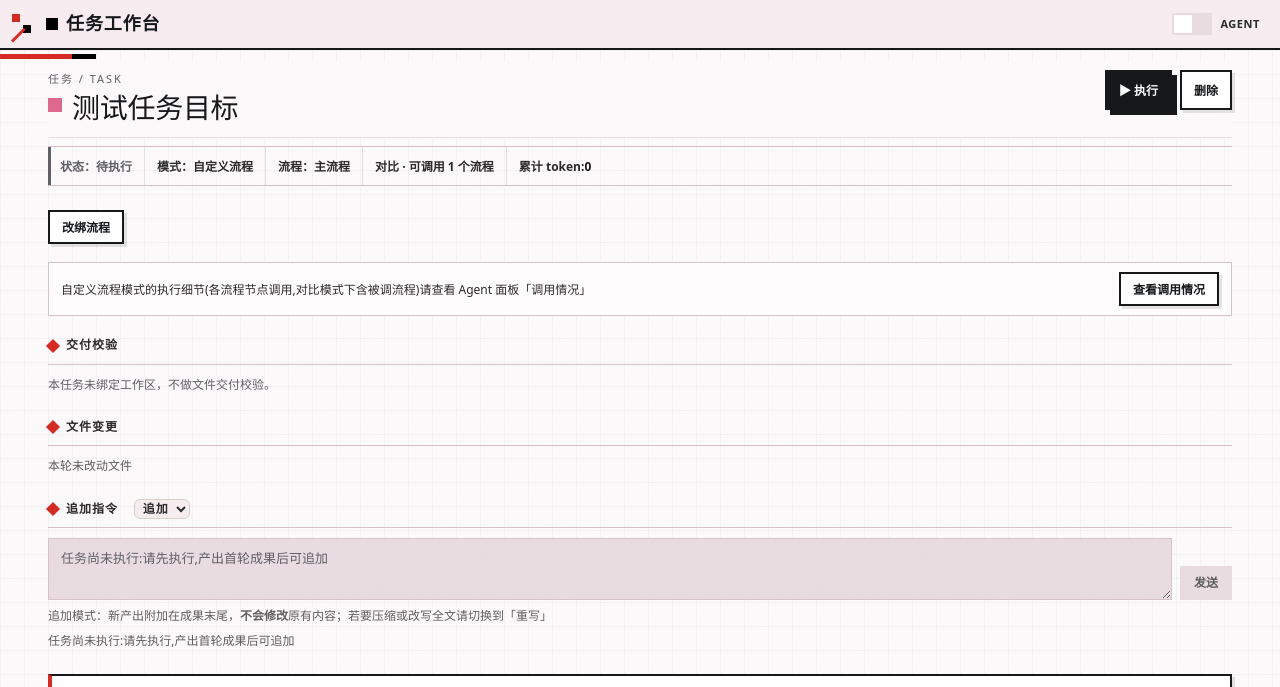
TaskBoard 改绑流程入选区(B 批 B3) › 后端 400:原文(点名原因)透出,入选区保持展开可重试
This screenshot has width=1280, height=687.
Click the button "改绑流程". click: (86,228)
box: [48,210,124,244]
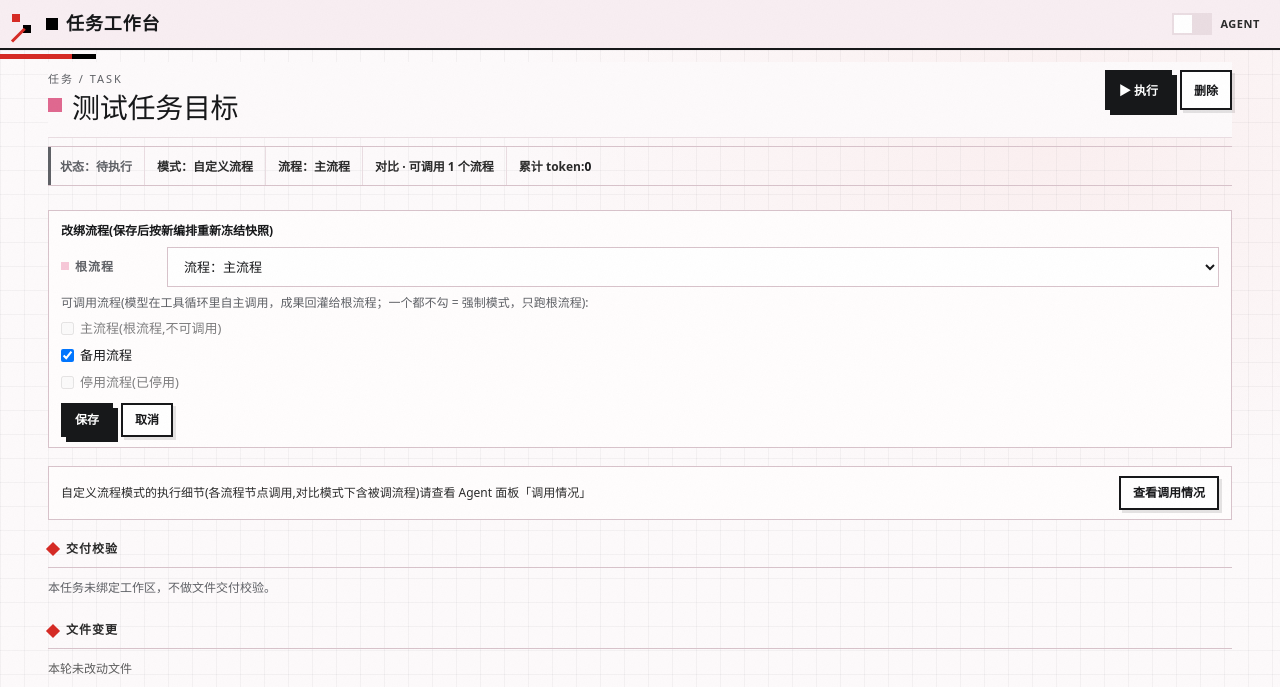
Click the button "保存". click: (87,420)
box: [61,403,113,437]
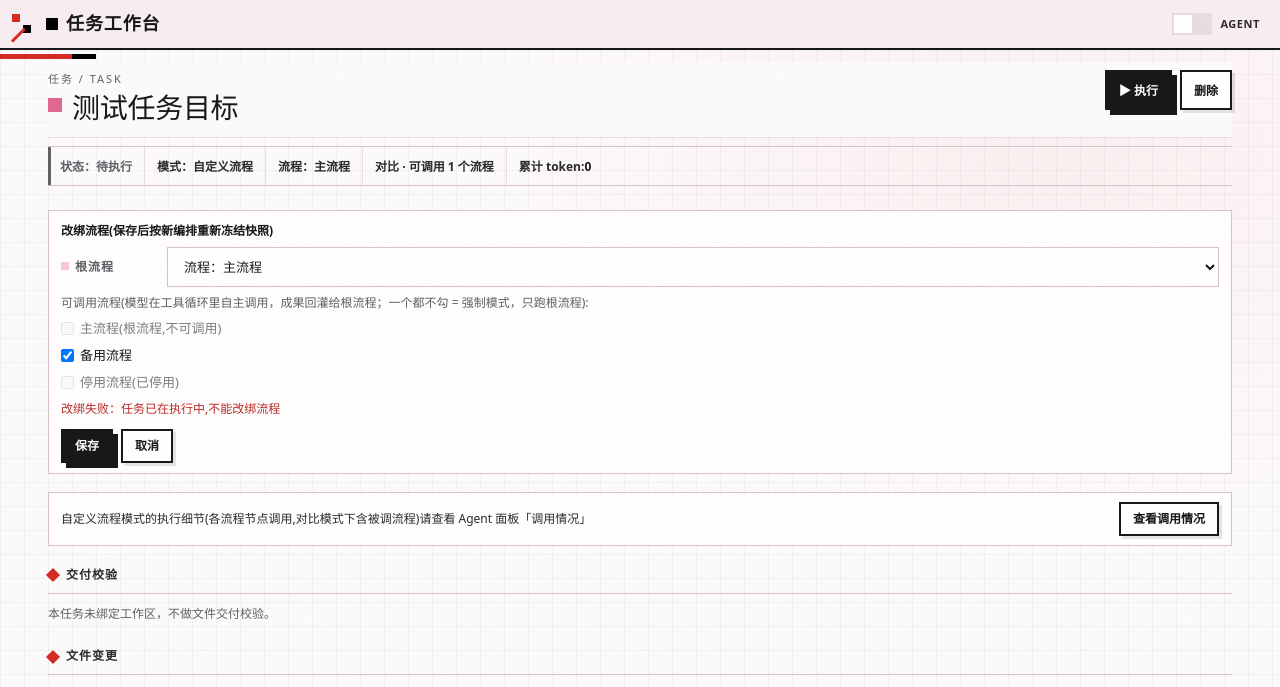
Expected: the element with class "sv-task-flow-bind-panel" is shown, [48,210,1232,474]
Expected: the text with class "sv-task-flow-bind-err" shows "任务已在执行中,不能改绑流程", [61,400,280,417]
